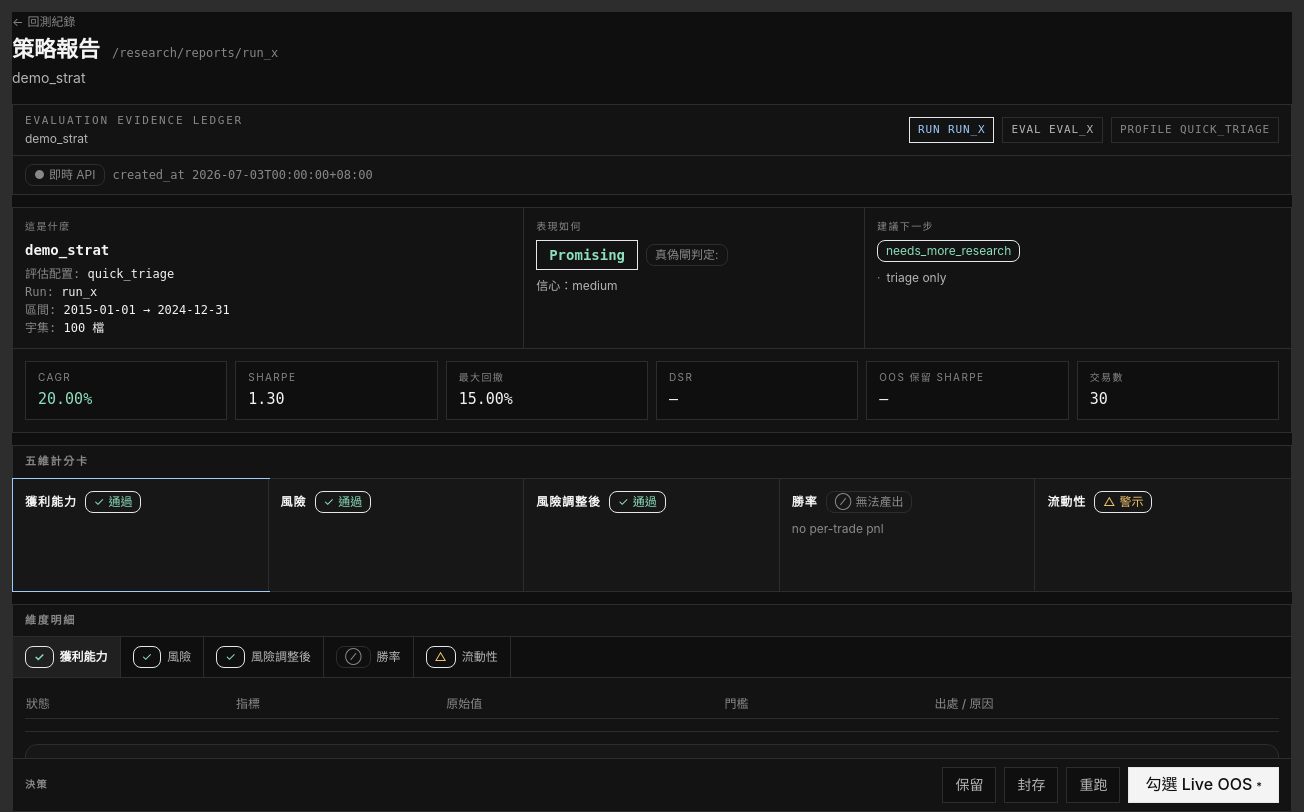
Test: ReportViewerPage · api mode › decision bar Keep → POST /decision {action:keep,label:promising} → saved badge
The image size is (1304, 812).
Click the button with test id "decision-keep". click: (970, 785)
box: left=942, top=767, right=996, bottom=803
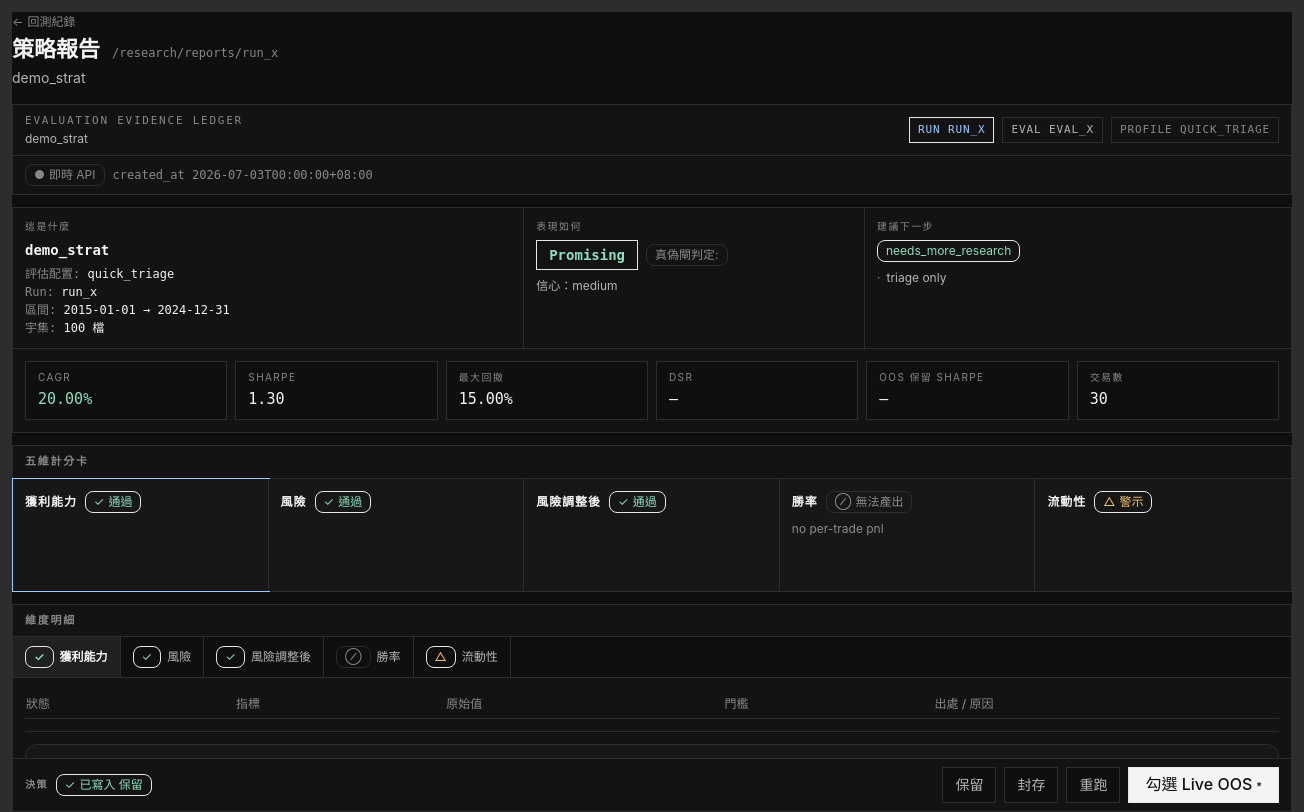
expect the text "✓ 已寫入 保留" is shown: met, box left=56, top=774, right=152, bottom=796
